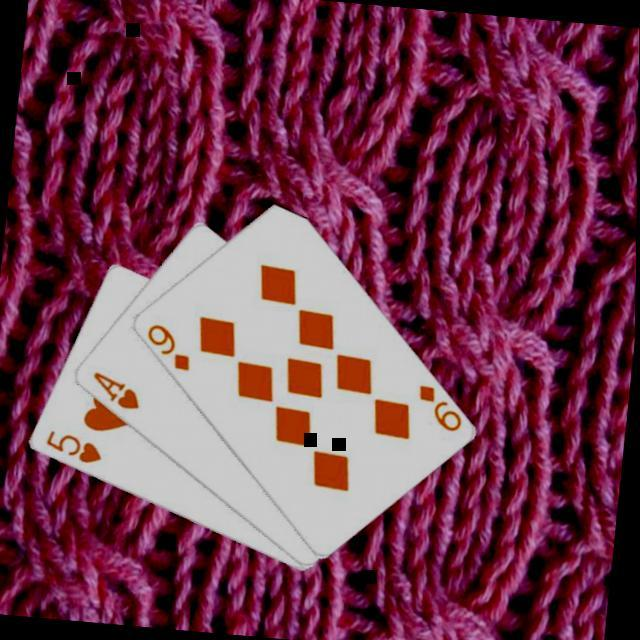5H: (42, 427, 107, 469)
9D: (141, 321, 198, 375), (412, 383, 469, 437)
AH: (88, 369, 147, 415)
